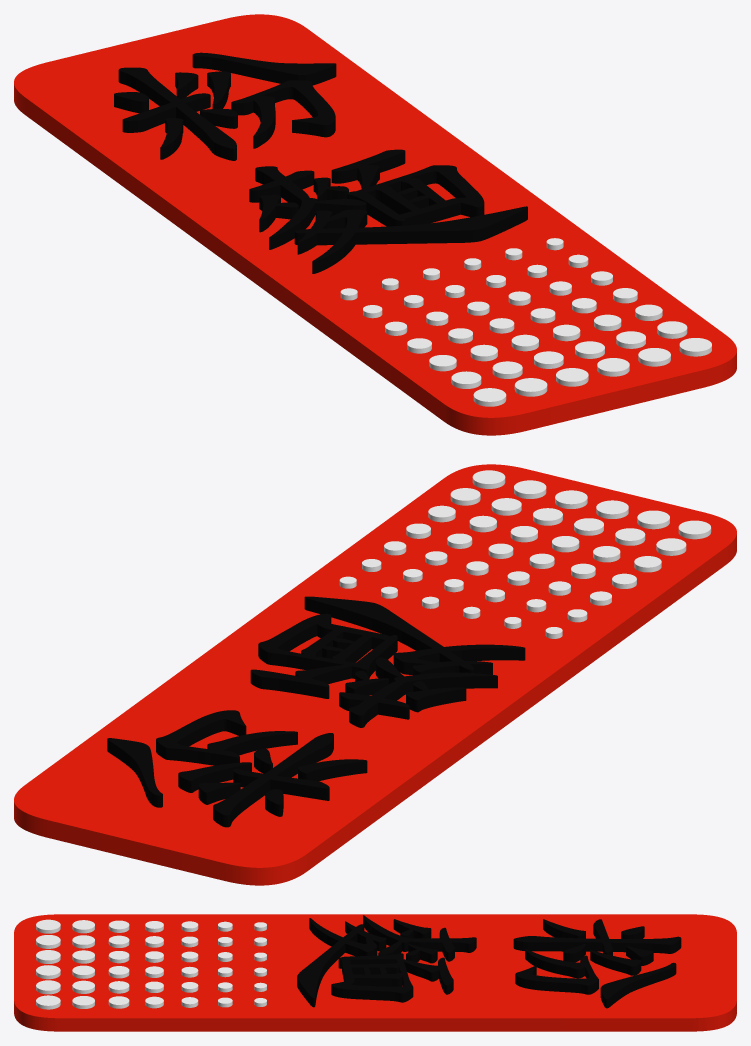
The picture shows the model from 3 angles, top to bottom: view 1: azimuth 30°, elevation 25°; view 2: azimuth 150°, elevation 25°; view 3: azimuth 270°, elevation 25°; orthographic projection. The views are drawn at different scales.
Parts seen in each view (by area): view 1: Box006, TextPlus007; view 2: Box006, TextPlus007; view 3: Box006, TextPlus007, Circle016, Circle015, Circle011, Circle014, Circle012, Circle013, Circle018, Circle019, Circle017, Circle020 (+8 smaller).
Boxes of the visible parts, left/top/right/bottom form: Box006: left=14, top=14, right=736, bottom=435; TextPlus007: left=114, top=52, right=527, bottom=273; Box006: left=14, top=464, right=736, bottom=885; TextPlus007: left=107, top=596, right=525, bottom=827; Box006: left=14, top=914, right=736, bottom=1031; TextPlus007: left=297, top=915, right=681, bottom=1008; Circle016: left=36, top=995, right=60, bottom=1009; Circle015: left=36, top=980, right=60, bottom=994; Circle011: left=36, top=919, right=60, bottom=933; Circle014: left=36, top=965, right=60, bottom=979; Circle012: left=36, top=935, right=60, bottom=948; Circle013: left=36, top=950, right=60, bottom=963; Circle018: left=72, top=935, right=94, bottom=948; Circle019: left=72, top=950, right=94, bottom=963; Circle017: left=72, top=920, right=94, bottom=933; Circle020: left=72, top=965, right=94, bottom=978.
Bounding box in the file's own units: 19.67 × 2.65 × 57.9.
